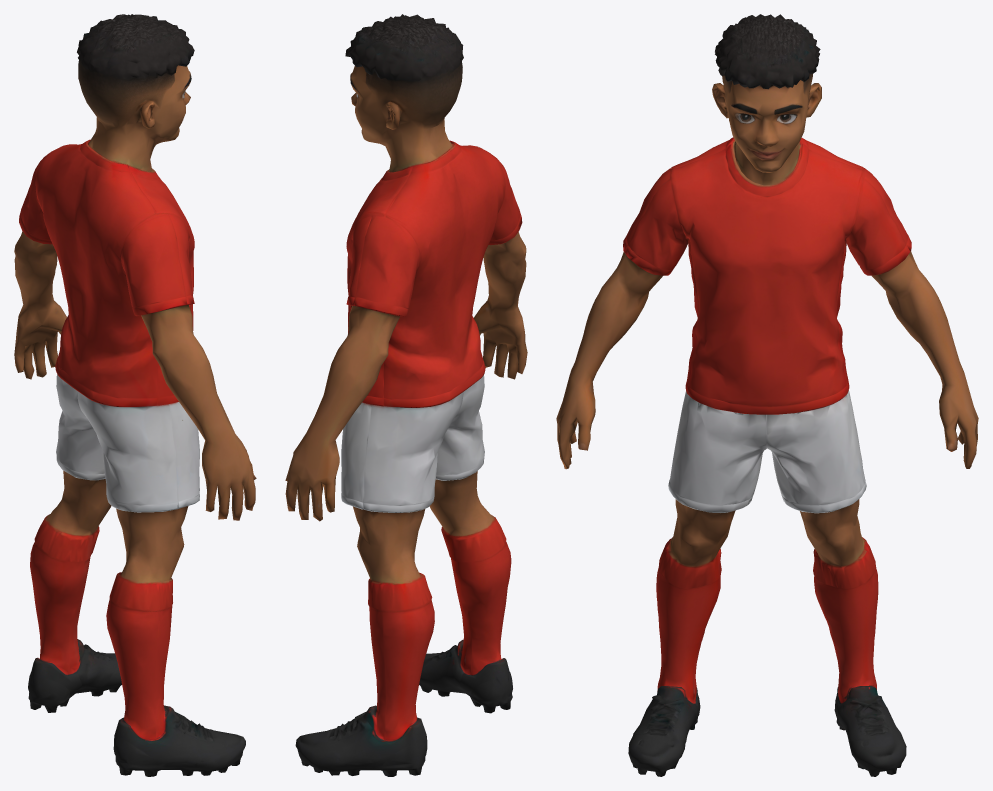
Rendered from gen.glb.
The picture shows the model from 3 angles, left to right: view 1: azimuth 30°, elevation 25°; view 2: azimuth 150°, elevation 25°; view 3: azimuth 270°, elevation 25°; orthographic projection. The views are drawn at different scales.
Visible parts, largest first — view 1: tripo_node_8c5f4815-64f0-4e81-815f-c59f83c590cd; view 2: tripo_node_8c5f4815-64f0-4e81-815f-c59f83c590cd; view 3: tripo_node_8c5f4815-64f0-4e81-815f-c59f83c590cd.
Part boxes in pixels (left/top/right/bottom): tripo_node_8c5f4815-64f0-4e81-815f-c59f83c590cd: left=14, top=14, right=256, bottom=776; tripo_node_8c5f4815-64f0-4e81-815f-c59f83c590cd: left=285, top=14, right=527, bottom=776; tripo_node_8c5f4815-64f0-4e81-815f-c59f83c590cd: left=556, top=14, right=978, bottom=776.
Size of the model in its own units: 0.1692 by 0.9779 by 0.5123.
1 material, 1 textured.
